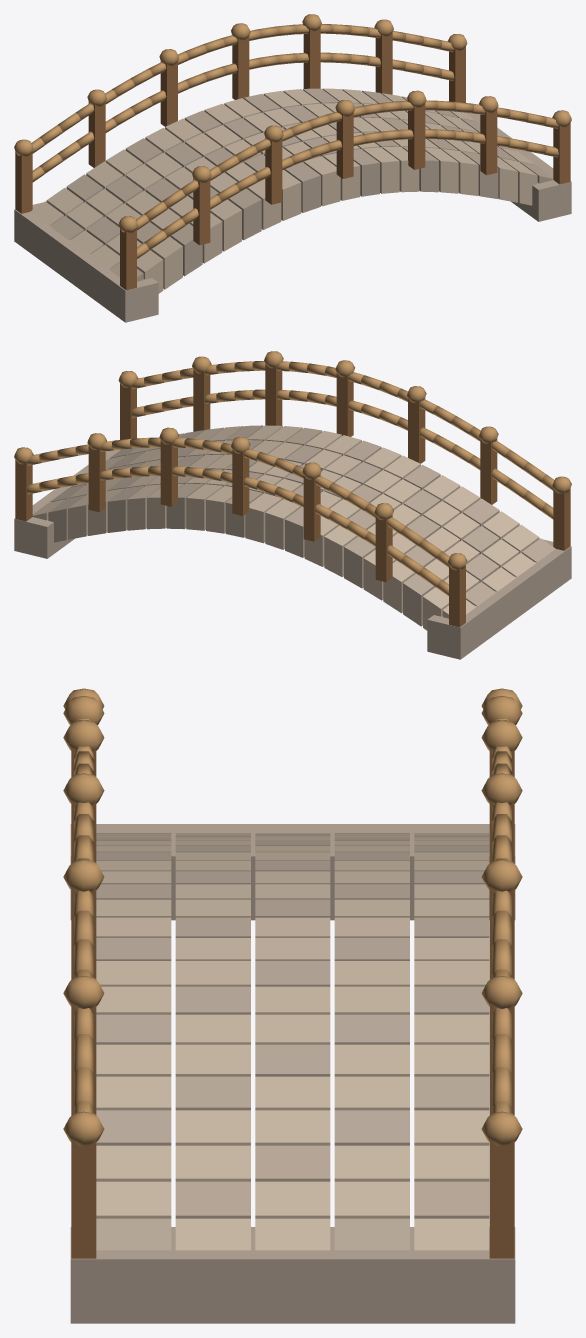
File: stone_bridge.glb
3 views of the same model, one above another, from view 1: azimuth 30°, elevation 25°; view 2: azimuth 150°, elevation 25°; view 3: azimuth 270°, elevation 25° (orthographic). The views are drawn at different scales.
Visible parts, largest first — view 1: stone_bridge; view 2: stone_bridge; view 3: stone_bridge.
Part boxes in pixels (x1,y1,x2,y2): stone_bridge: (14,14,571,322); stone_bridge: (14,351,571,659); stone_bridge: (63,688,522,1323).
Size of the model in its own units: 7.08 by 2.49 by 3.12.
